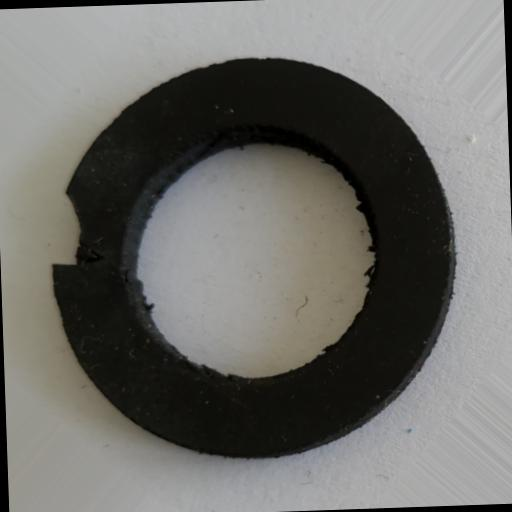defect: (46, 187, 104, 272)
